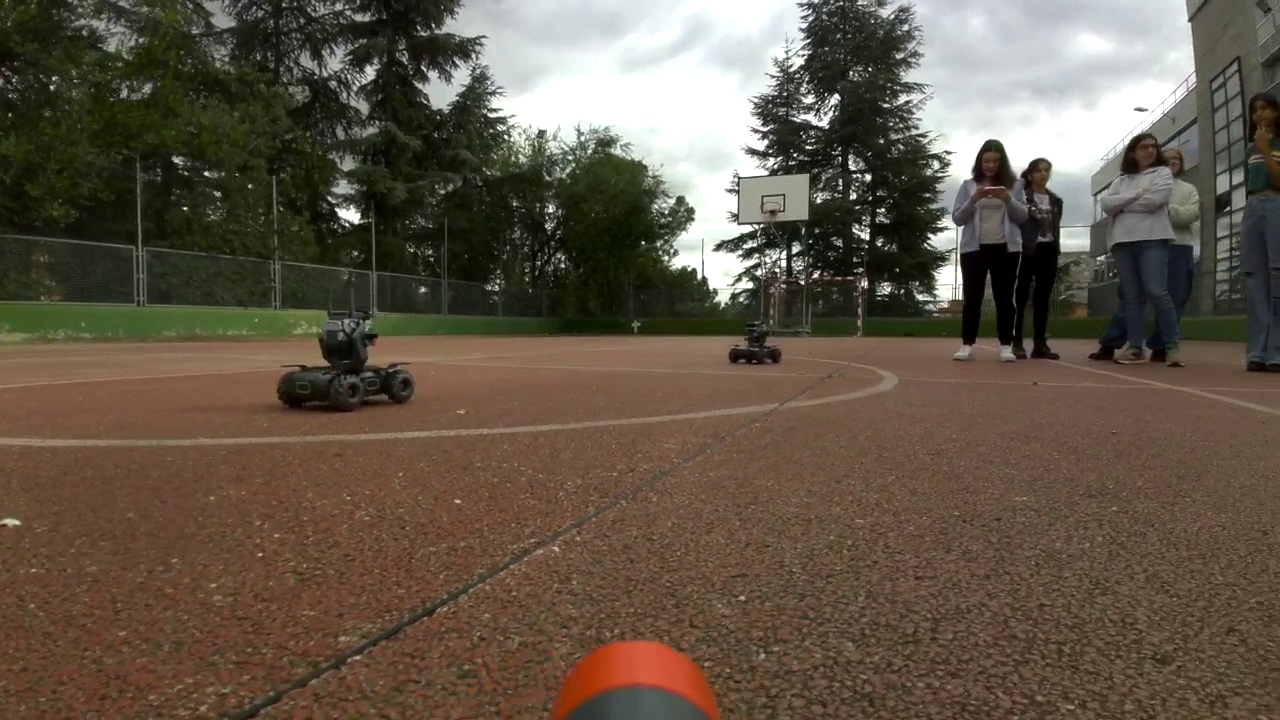robot: (277, 310, 414, 413), (728, 320, 780, 365)
